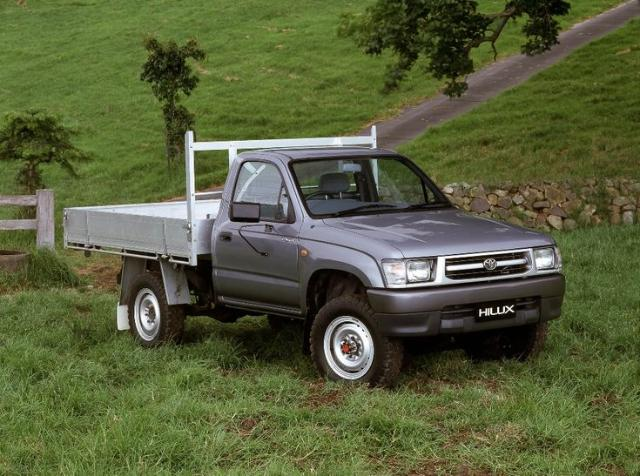pickup-truck: (61, 127, 566, 388)
